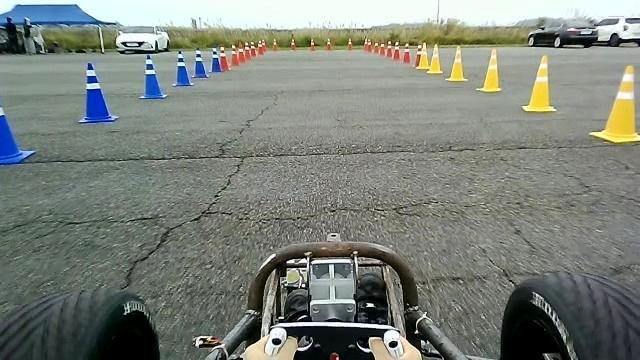blue cone: (77, 62, 118, 123), (138, 54, 167, 99), (171, 50, 194, 86), (191, 47, 209, 78), (208, 47, 223, 72)
yellow cone: (588, 64, 639, 143), (521, 54, 556, 112), (475, 48, 502, 92), (445, 45, 468, 81), (426, 43, 443, 74)
